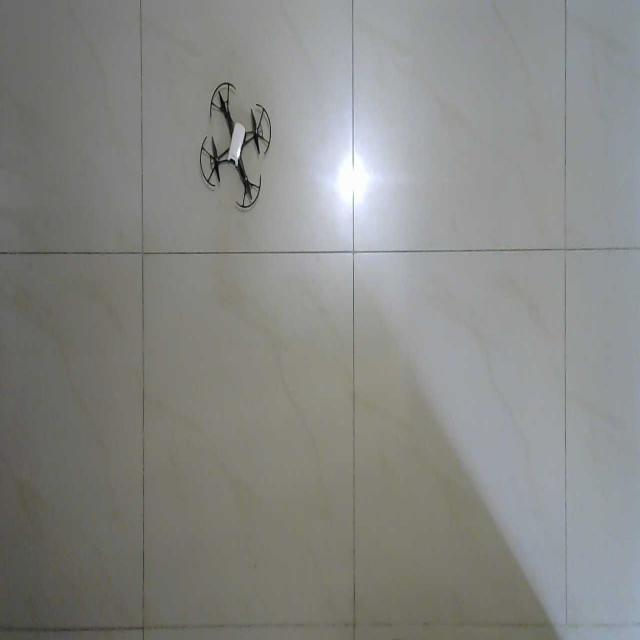drone: (199, 81, 272, 210)
